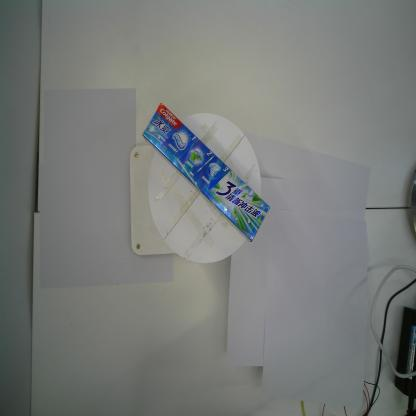Personal Hygiene: (142, 103, 270, 242)
